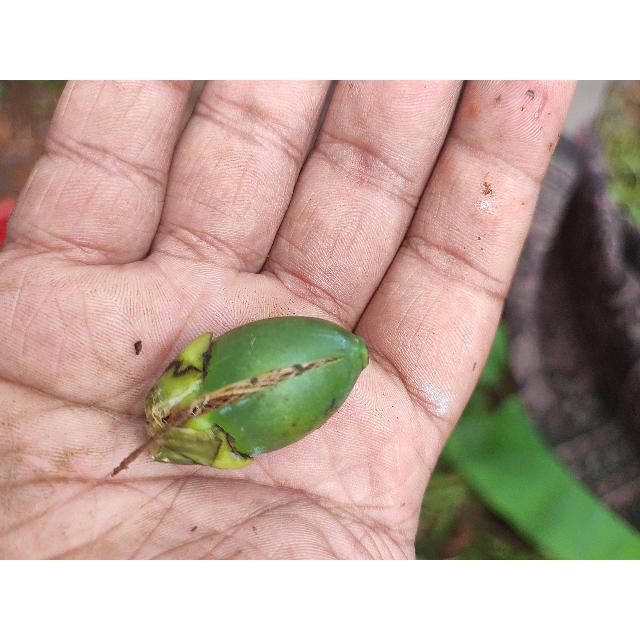damaged: (142, 316, 370, 472)
